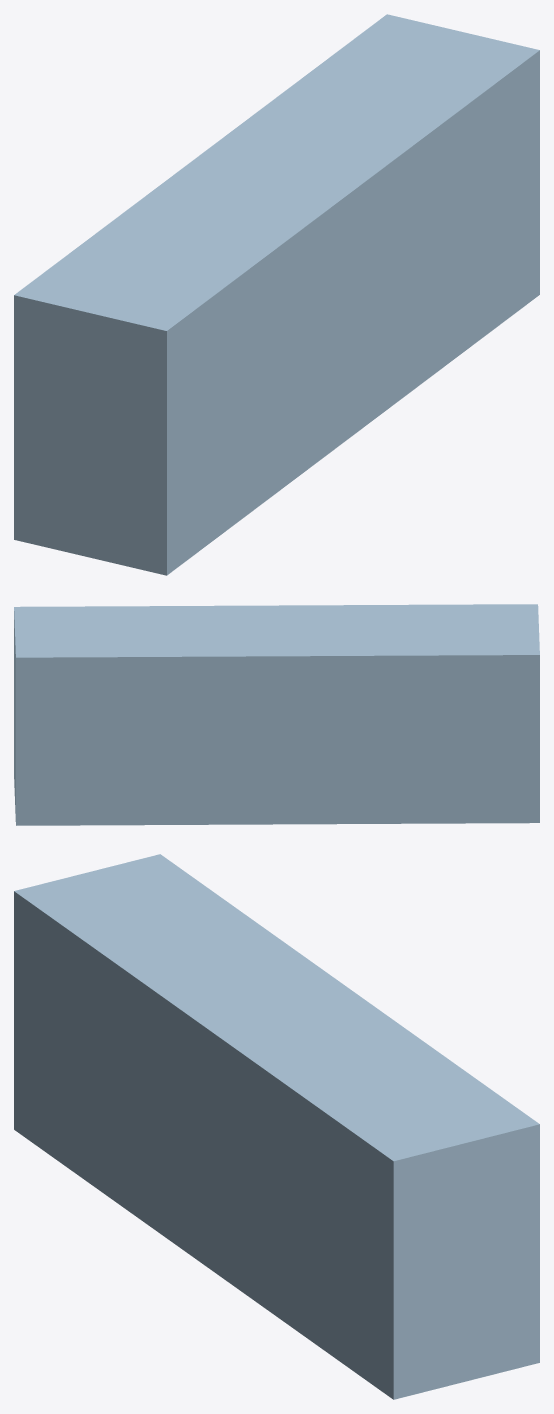
The model's file is osm_way_225265348.glb.
3 views of the same model, one above another, from view 1: azimuth 30°, elevation 25°; view 2: azimuth 150°, elevation 25°; view 3: azimuth 270°, elevation 25° (orthographic). The views are drawn at different scales.
Parts seen in each view (by area): view 1: osm_way_225265348; view 2: osm_way_225265348; view 3: osm_way_225265348.
Boxes of the visible parts, bbox=[...] form: osm_way_225265348: bbox=[14, 14, 539, 575]; osm_way_225265348: bbox=[14, 604, 539, 825]; osm_way_225265348: bbox=[14, 854, 539, 1399].
Bounding box in the file's own units: 53.03 × 19.2 × 38.37.
